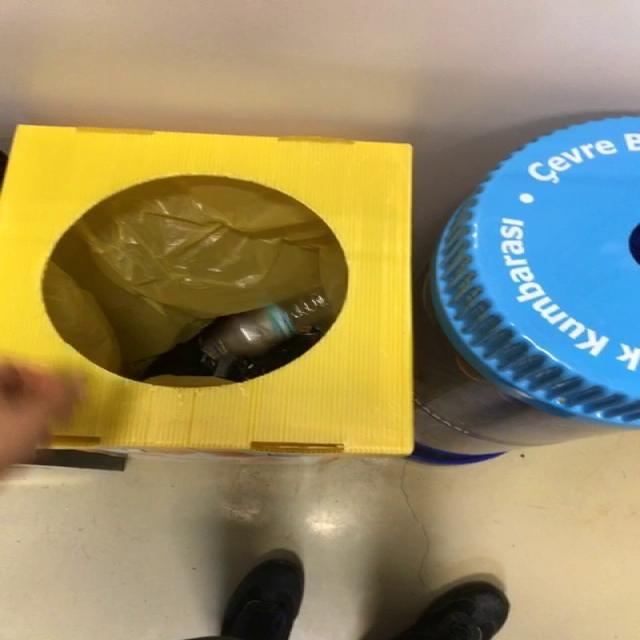plastic: (193, 290, 329, 378)
